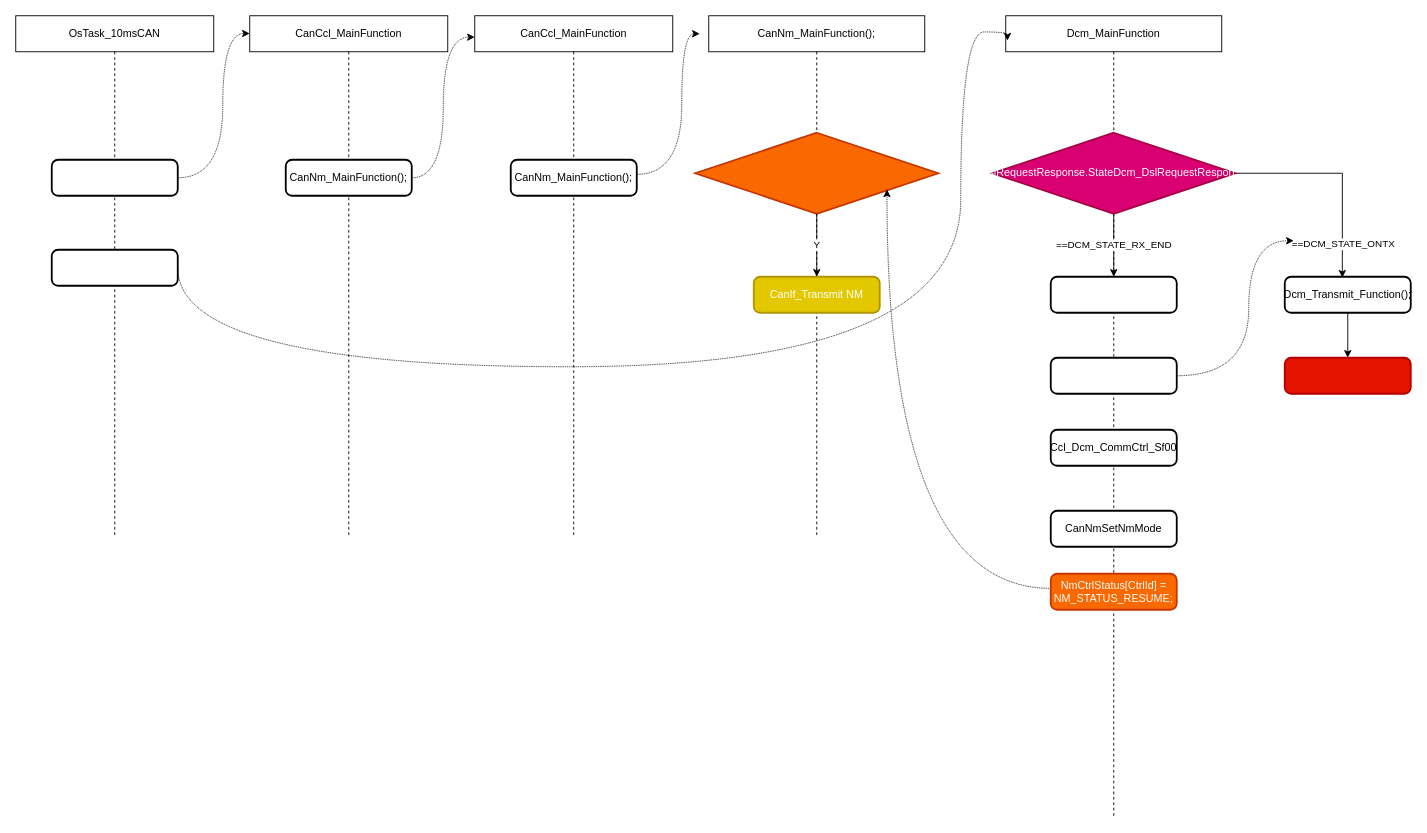
The diagram is 1427 pixels wide and 833 high, and some of its shapes have lost their labels. The centre of each missing label's shape, as x and y in pixels:
CanCcl_MainFunction();: point 114,177
CanTp_Transmit TP: point 1347,375
Communication_action: point 1113,375
Dcm_28ServiceProcess: point 1113,294
Dcm_MainFunction();: point 114,267
NmCtrlStatus[MMCAN_CHANNEL] != NM_STATUS_SUSPEND: point 816,172
